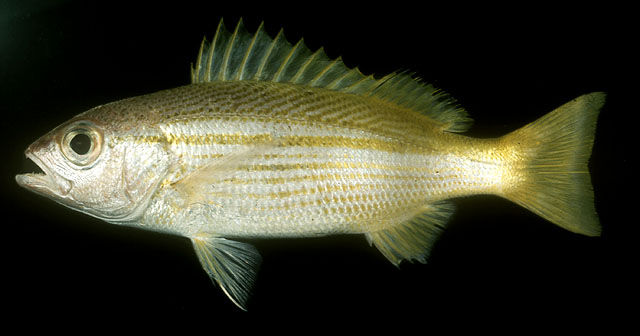fish: (15, 18, 607, 313)
